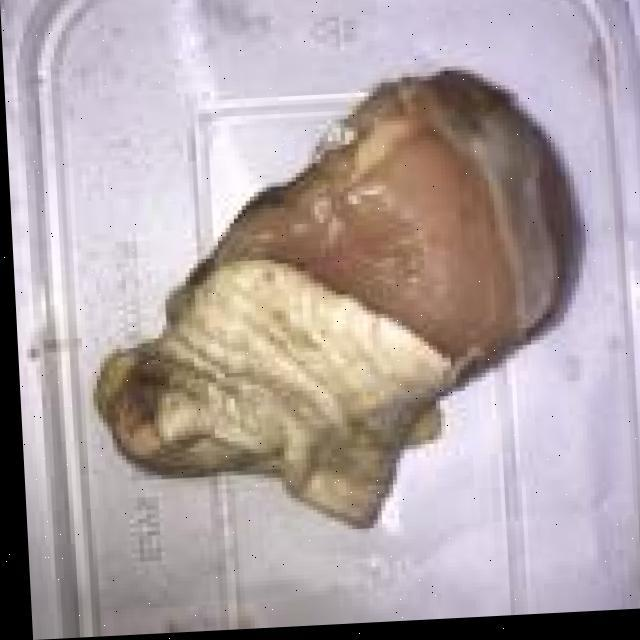breast: (85, 86, 580, 516)
